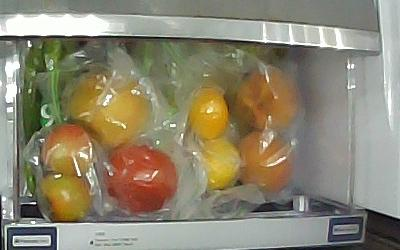peach_vinyl: (235, 68, 299, 130), (238, 132, 292, 193)
pear_vinyl: (70, 71, 152, 146)
tangerine_vinyl: (198, 139, 242, 190), (187, 86, 228, 139)
tomato_vinyl: (103, 144, 178, 213), (37, 174, 92, 223), (42, 124, 92, 176)
